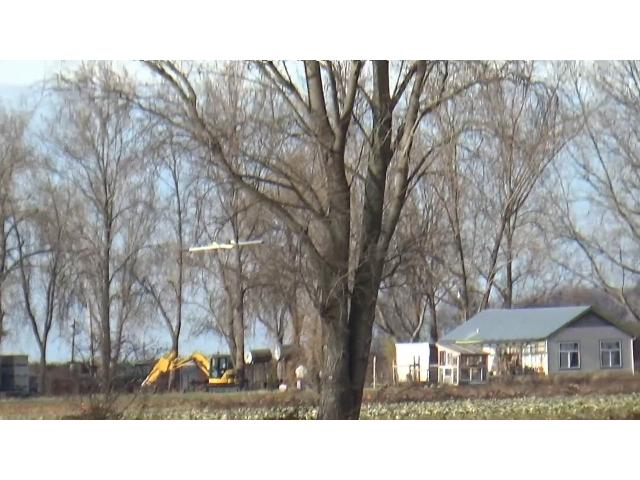Anti-Drone: (182, 240, 262, 253)
